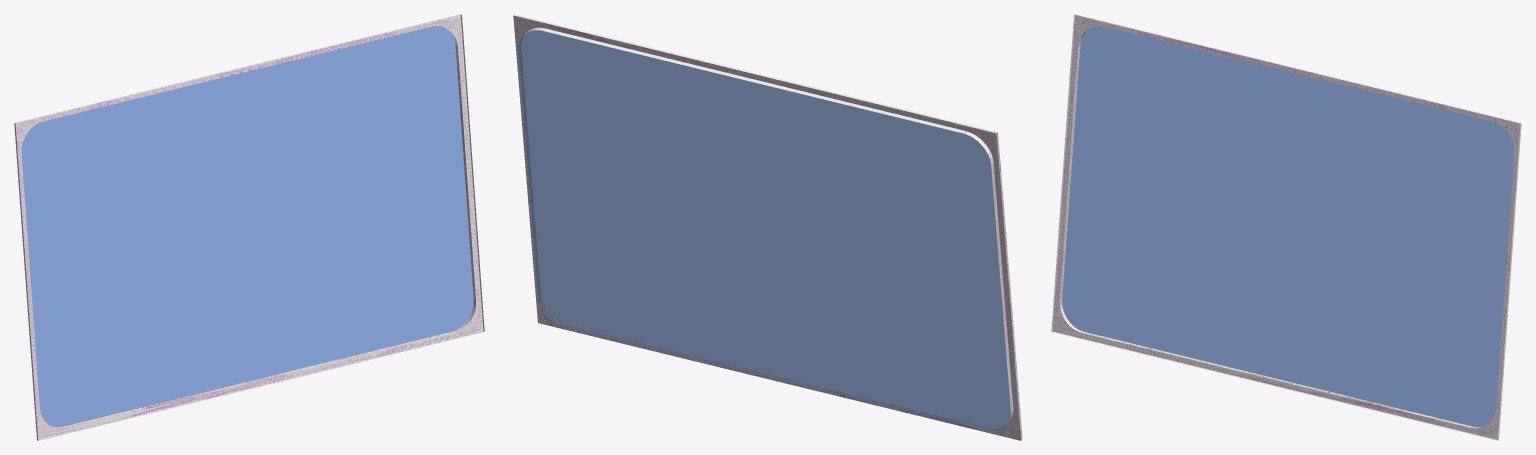
File: original-182.obj
3 views of the same model, side by side, from view 1: azimuth 30°, elevation 25°; view 2: azimuth 150°, elevation 25°; view 3: azimuth 330°, elevation 25° (orthographic). The views are drawn at different scales.
Visible parts, largest first — view 1: mesh10/mesh10-geometry#mesh10-geometry; view 2: mesh10/mesh10-geometry#mesh10-geometry; view 3: mesh10/mesh10-geometry#mesh10-geometry.
Part boxes in pixels (bbox=[...]): mesh10/mesh10-geometry#mesh10-geometry: bbox=[14, 14, 484, 440]; mesh10/mesh10-geometry#mesh10-geometry: bbox=[513, 14, 1022, 440]; mesh10/mesh10-geometry#mesh10-geometry: bbox=[1051, 14, 1521, 440].
Bounding box in the file's own units: 1.28 × 0.828 × 0.1294.
